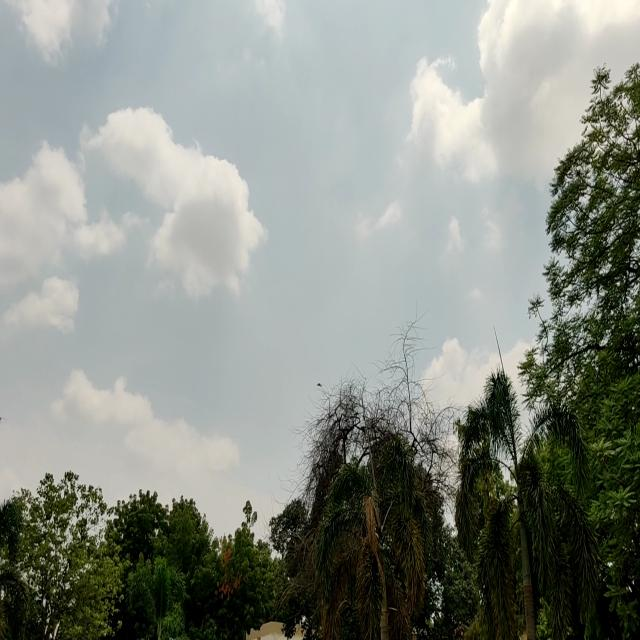drone: (311, 376, 328, 390)
